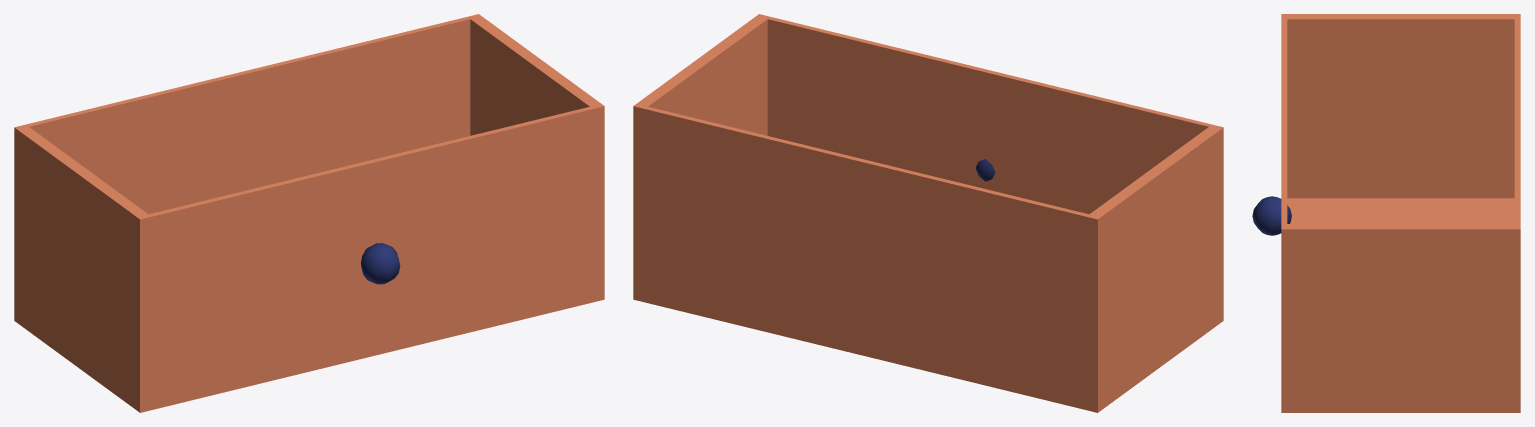
File: CLOSET BOTTOM.fbx
3 views of the same model, side by side, from view 1: azimuth 30°, elevation 25°; view 2: azimuth 150°, elevation 25°; view 3: azimuth 270°, elevation 25° (orthographic). The views are drawn at different scales.
Parts seen in each view (by area): view 1: bottom, Sphere.003; view 2: bottom; view 3: bottom, Sphere.003.
Boxes of the visible parts, x1,y1,x2,y2 form: bottom: (14, 14, 604, 412); Sphere.003: (360, 243, 400, 284); bottom: (633, 14, 1223, 412); bottom: (1281, 14, 1520, 412); Sphere.003: (1252, 196, 1291, 235).
Size of the model in its own units: 389 by 155 by 205.
